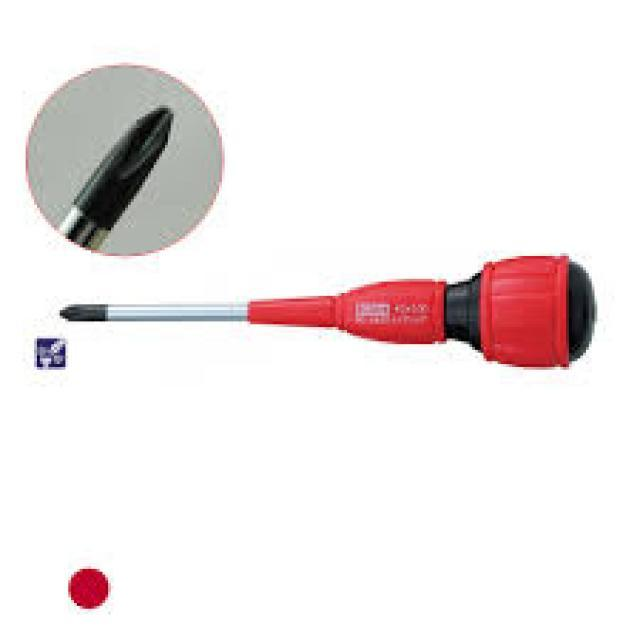screwdriver: (54, 252, 600, 372)
